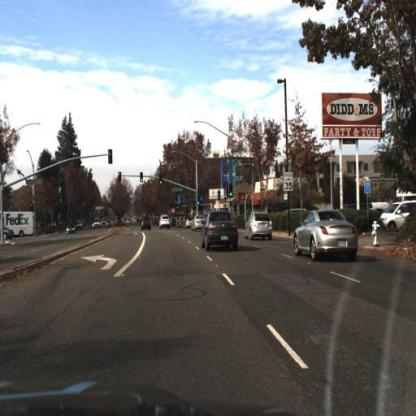car: (295, 211, 357, 260), (198, 207, 240, 258), (380, 200, 416, 235), (245, 209, 277, 241), (192, 208, 207, 236), (62, 220, 78, 238), (157, 213, 173, 230), (139, 217, 154, 235), (93, 216, 103, 233)
trafficLight-Green: (228, 181, 236, 200), (158, 174, 166, 190), (140, 172, 146, 188), (195, 195, 201, 211)
trafficLight-Red: (118, 170, 123, 188)
truck: (1, 209, 39, 240)
